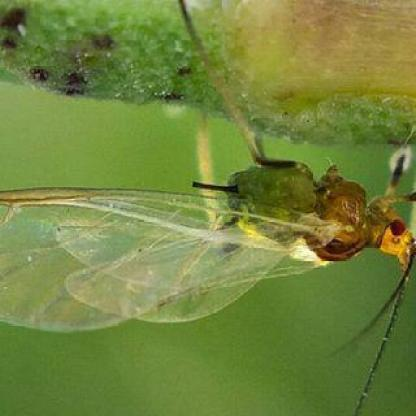aphid: (1, 54, 416, 402)
